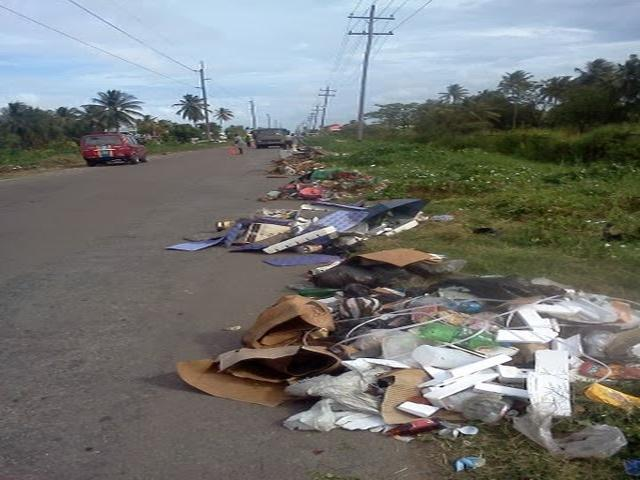garbage: (320, 296, 609, 438), (245, 213, 384, 256)
